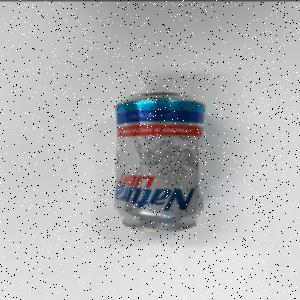Can: (114, 92, 208, 233)
